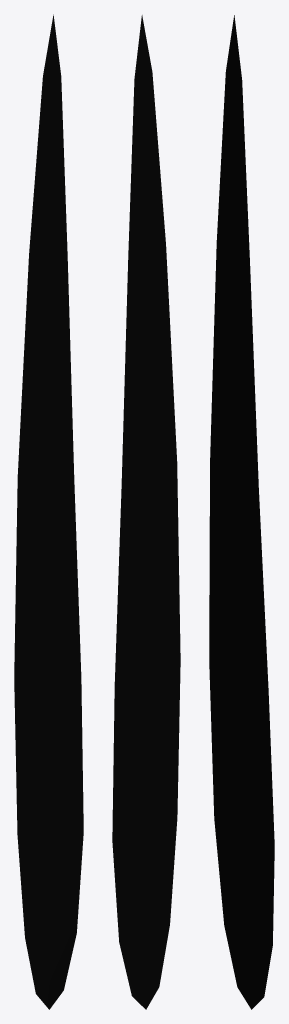
File: weed_particle.glb
3 views of the same model, side by side, from view 1: azimuth 30°, elevation 25°; view 2: azimuth 210°, elevation 25°; view 3: azimuth 330°, elevation 25° (orthographic).
Visible parts, largest first — view 1: WeedParticle; view 2: WeedParticle; view 3: WeedParticle.
Part boxes in pixels (x1=…): WeedParticle: x1=14, y1=14, x2=83, y2=1009; WeedParticle: x1=112, y1=15, x2=180, y2=1009; WeedParticle: x1=209, y1=15, x2=274, y2=1009.
Bounding box in the file's own units: 0.115 × 1.63 × 0.0315.
Materials: 1 (1 with a texture image).
